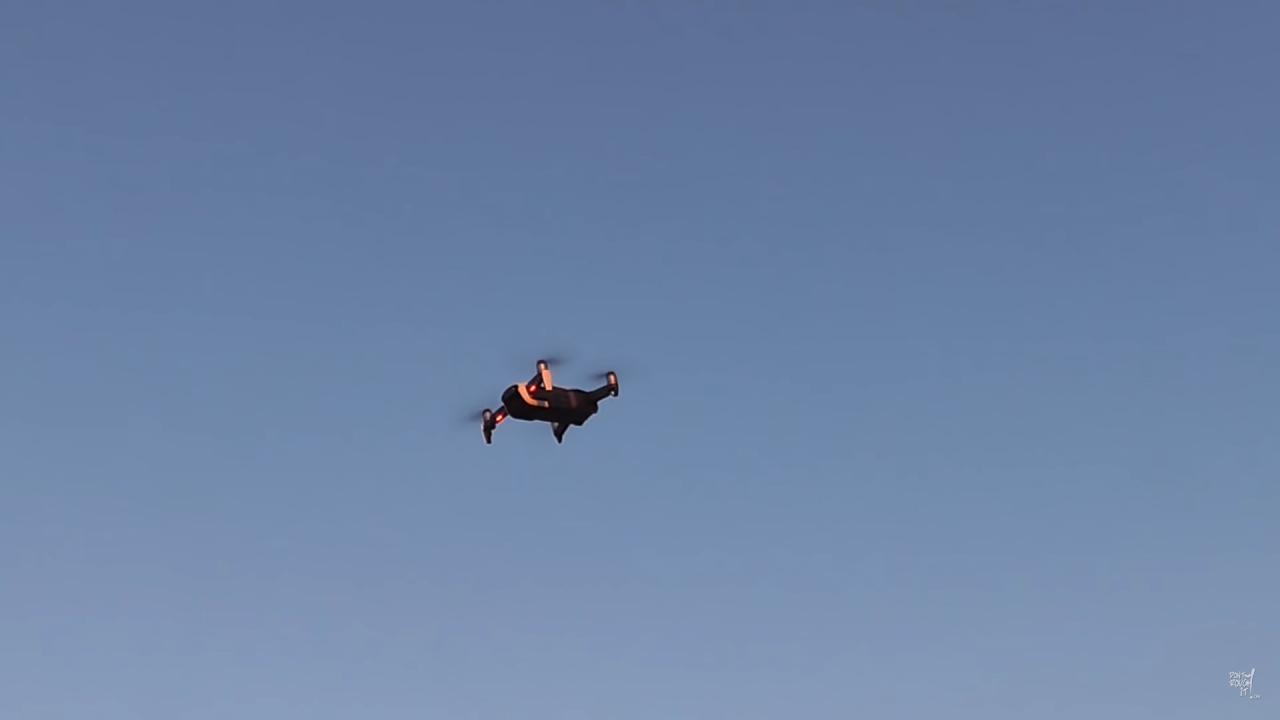Drone: (449, 346, 632, 462)
